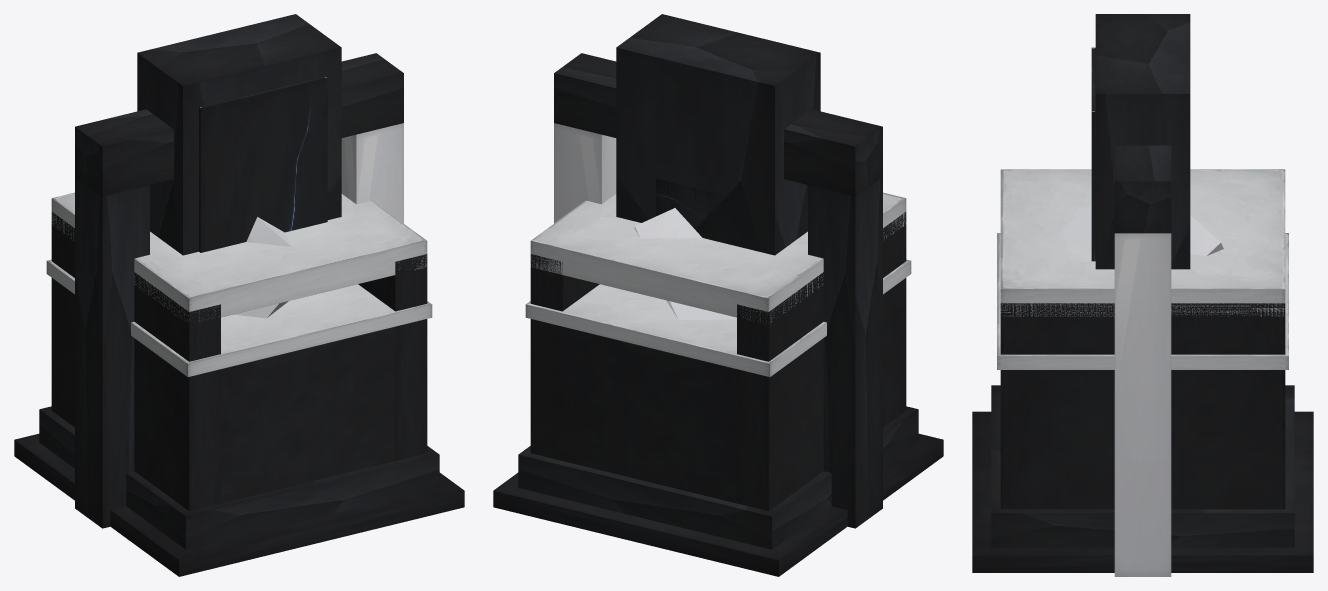
File: kit.glb
3 renders of one model, left to right at view 1: azimuth 30°, elevation 25°; view 2: azimuth 150°, elevation 25°; view 3: azimuth 270°, elevation 25°, orthographic. The views are drawn at different scales.
Visible parts, largest first — view 1: door_frame, archive_monolith, wall_0, slab_arc, node_pedestal, data_pad, cube_float; view 2: door_frame, wall_0, archive_monolith, slab_arc, node_pedestal, data_pad, cube_float, trap_beacon; view 3: door_frame, slab_arc, archive_monolith, data_pad, node_pedestal, wall_0, cube_float.
Part boxes in pixels (x1,y1,x2,y2): door_frame: [51, 192, 427, 511]; archive_monolith: [137, 14, 341, 255]; wall_0: [46, 259, 432, 508]; slab_arc: [75, 53, 403, 528]; node_pedestal: [39, 406, 439, 549]; data_pad: [14, 433, 464, 576]; cube_float: [234, 217, 291, 318]; door_frame: [530, 192, 906, 511]; wall_0: [525, 259, 911, 509]; archive_monolith: [616, 14, 820, 255]; slab_arc: [554, 53, 882, 528]; node_pedestal: [518, 406, 918, 549]; data_pad: [493, 433, 943, 576]; cube_float: [634, 208, 736, 319]; trap_beacon: [656, 178, 734, 228]; door_frame: [1000, 169, 1285, 509]; slab_arc: [1114, 145, 1171, 576]; archive_monolith: [1091, 14, 1190, 269]; data_pad: [972, 411, 1313, 572]; node_pedestal: [991, 385, 1294, 547]; wall_0: [997, 233, 1288, 509]; cube_float: [1058, 203, 1223, 256].
Bounding box in the file's own units: 1.9 × 2.66 × 1.8.
3 materials, 3 textured.
